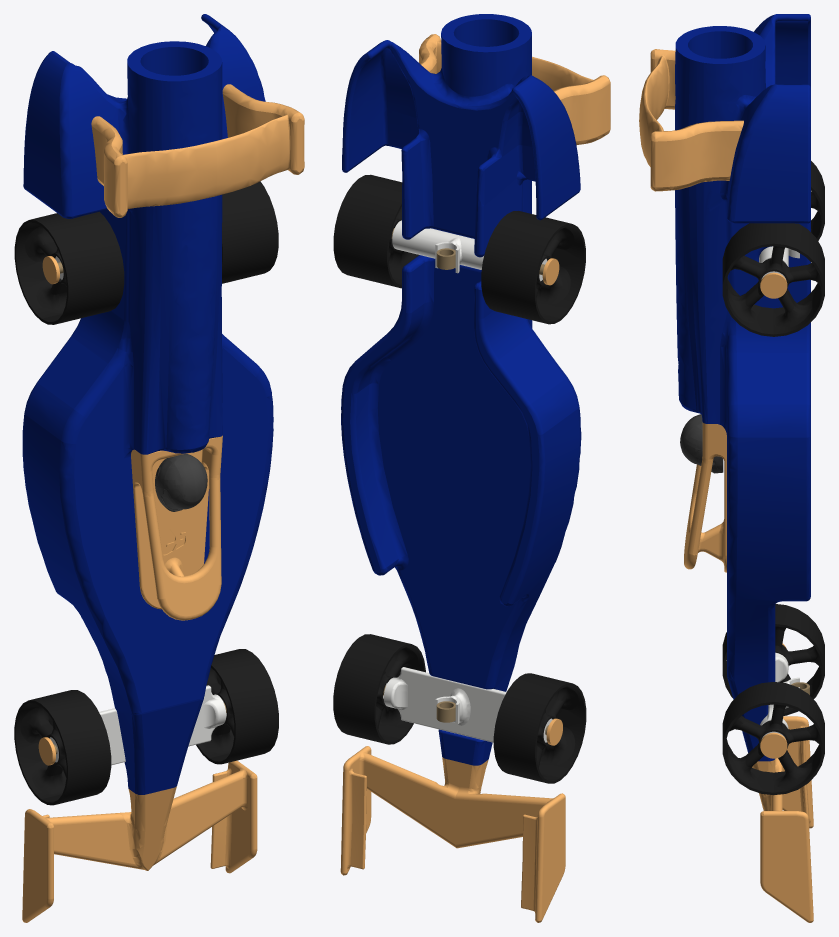
The model's file is car.glb.
The picture shows the model from 3 angles, left to right: view 1: azimuth 30°, elevation 25°; view 2: azimuth 150°, elevation 25°; view 3: azimuth 270°, elevation 25°; orthographic projection. The views are drawn at different scales.
Parts seen in each view (by area): view 1: empty_8, empty_4, empty_9, empty_3, empty_16, empty_12, empty_7, empty_6, empty_2, empty_21; view 2: empty_8, empty_4, empty_16, empty_12, empty_7, empty_6, empty_21, empty_9, empty_15; view 3: empty_8, empty_6, empty_9, empty_4, empty_7, empty_3, empty_12, empty_2, empty_16, empty_21, empty_23, empty_25.
Boxes of the visible parts, left/top/right/bottom form: empty_8: left=22, top=14, right=273, bottom=794; empty_4: left=22, top=760, right=257, bottom=922; empty_9: left=91, top=84, right=304, bottom=217; empty_3: left=131, top=435, right=222, bottom=620; empty_16: left=14, top=211, right=124, bottom=324; empty_12: left=14, top=690, right=111, bottom=805; empty_7: left=196, top=649, right=278, bottom=764; empty_6: left=222, top=181, right=278, bottom=283; empty_2: left=155, top=453, right=207, bottom=511; empty_21: left=99, top=685, right=226, bottom=765; empty_8: left=341, top=14, right=581, bottom=765; empty_4: left=340, top=746, right=565, bottom=922; empty_16: left=481, top=211, right=585, bottom=324; empty_12: left=493, top=673, right=586, bottom=783; empty_7: left=333, top=634, right=425, bottom=744; empty_6: left=333, top=174, right=418, bottom=288; empty_21: left=383, top=667, right=506, bottom=742; empty_9: left=419, top=34, right=610, bottom=145; empty_15: left=392, top=220, right=483, bottom=273; empty_8: left=675, top=14, right=810, bottom=761; empty_6: left=722, top=223, right=824, bottom=336; empty_9: left=639, top=49, right=743, bottom=191; empty_4: left=752, top=716, right=813, bottom=922; empty_7: left=722, top=682, right=824, bottom=795; empty_3: left=684, top=422, right=726, bottom=572; empty_12: left=722, top=604, right=824, bottom=715; empty_2: left=680, top=414, right=723, bottom=473; empty_16: left=811, top=161, right=824, bottom=240; empty_21: left=760, top=652, right=799, bottom=728; empty_23: left=760, top=732, right=787, bottom=758; empty_25: left=760, top=272, right=787, bottom=298.
Bounding box in the file's own units: 65.02 × 254 × 51.46.
